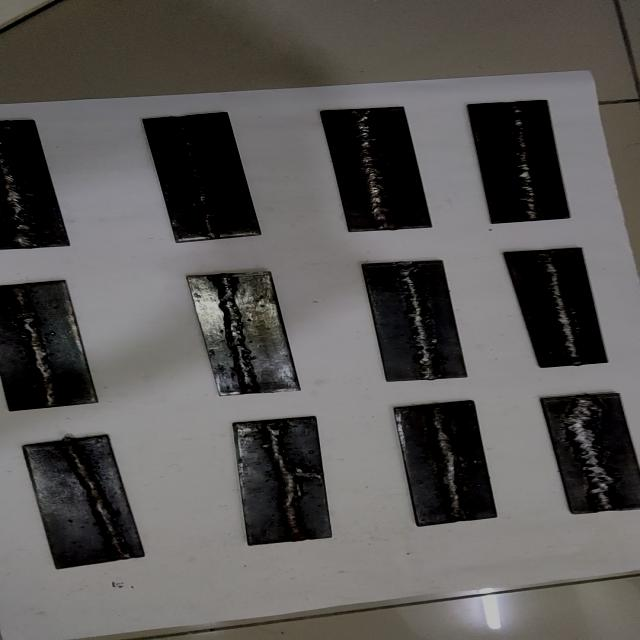Bad Weld: (556, 397, 620, 512), (264, 421, 308, 540)
Defect: (559, 395, 627, 510), (272, 465, 326, 483)
Good Weld: (59, 441, 129, 559), (173, 118, 226, 238), (208, 274, 261, 393), (8, 287, 59, 407), (394, 263, 442, 380), (536, 250, 584, 365), (352, 111, 398, 230), (0, 134, 44, 249), (508, 101, 544, 221), (428, 404, 464, 520)
